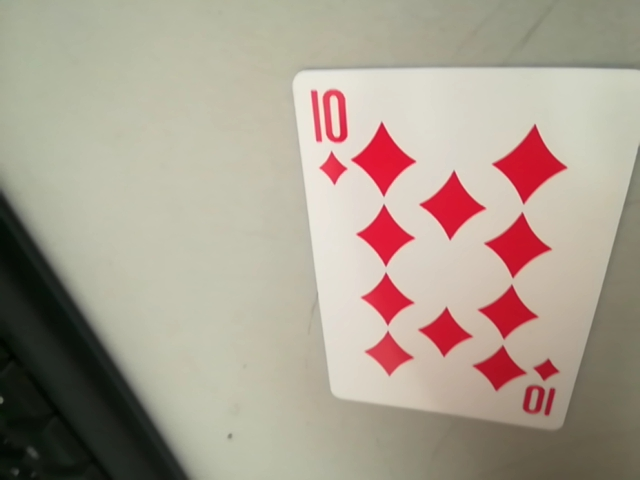fk 10: (303, 82, 359, 162), (509, 359, 564, 422)
